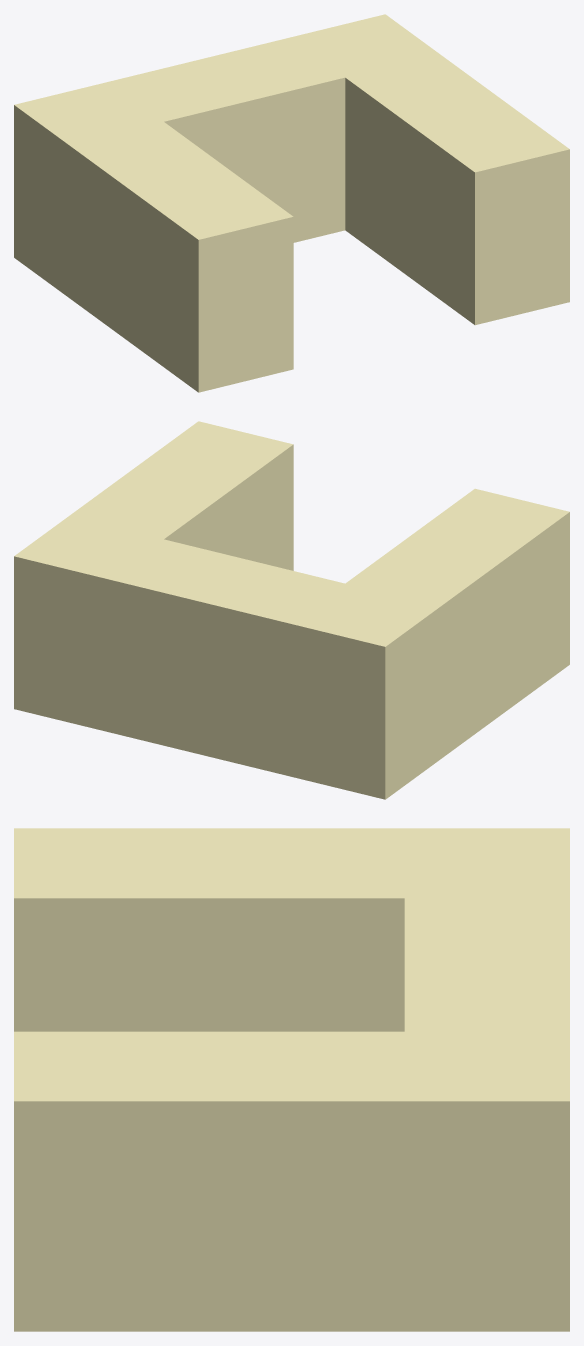
Rendered from Itr_Sofa_Outside_02.FBX.
3 renders of one model, top to bottom at view 1: azimuth 30°, elevation 25°; view 2: azimuth 150°, elevation 25°; view 3: azimuth 270°, elevation 25°, orthographic. The views are drawn at different scales.
Visible parts, largest first — view 1: Itr_Sofa_Outside_02; view 2: Itr_Sofa_Outside_02; view 3: Itr_Sofa_Outside_02.
Boxes of the visible parts, <box> form: Itr_Sofa_Outside_02: <box>14,14,569,392</box>; Itr_Sofa_Outside_02: <box>14,421,569,799</box>; Itr_Sofa_Outside_02: <box>14,828,569,1331</box>.
Bounding box in the file's own units: 51.28 × 20.16 × 44.13.
